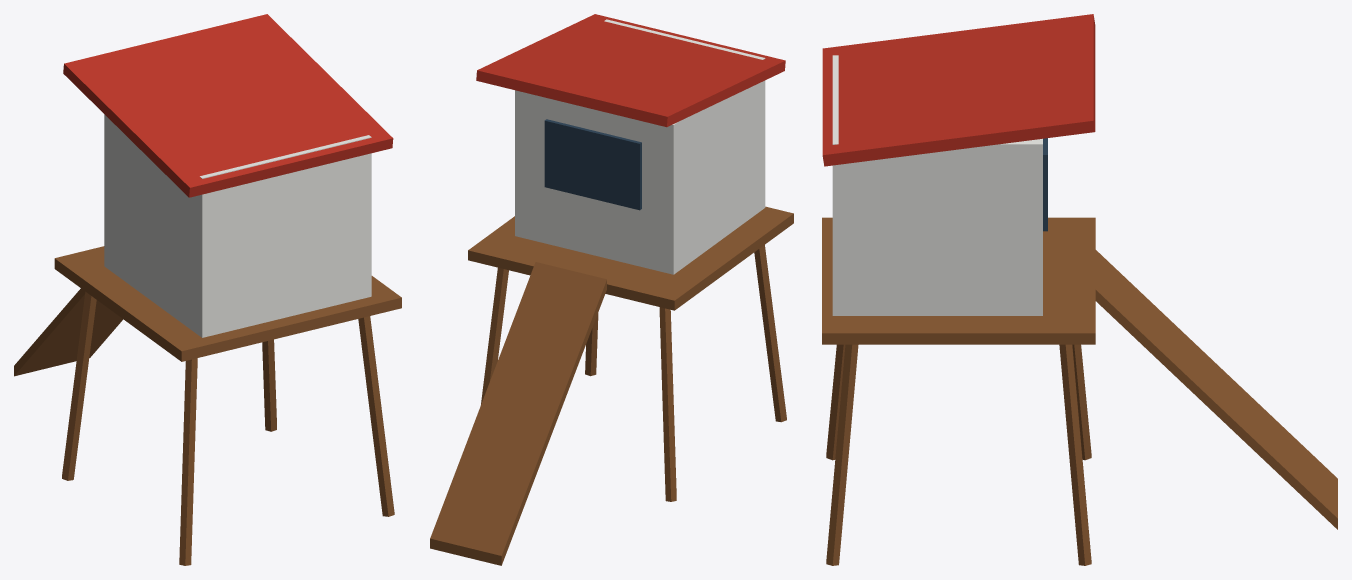
The model's file is prop_lifeguard.glb.
3 renders of one model, left to right at view 1: azimuth 30°, elevation 25°; view 2: azimuth 150°, elevation 25°; view 3: azimuth 270°, elevation 25°, orthographic. The views are drawn at different scales.
Parts seen in each view (by area): view 1: prop_lifeguard__mesh; view 2: prop_lifeguard__mesh; view 3: prop_lifeguard__mesh.
Boxes of the visible parts, x1,y1,x2,y2 form: prop_lifeguard__mesh: [14, 14, 401, 565]; prop_lifeguard__mesh: [430, 14, 793, 565]; prop_lifeguard__mesh: [822, 14, 1337, 565].
Size of the model in its own units: 2.6 by 4.65 by 4.9.
